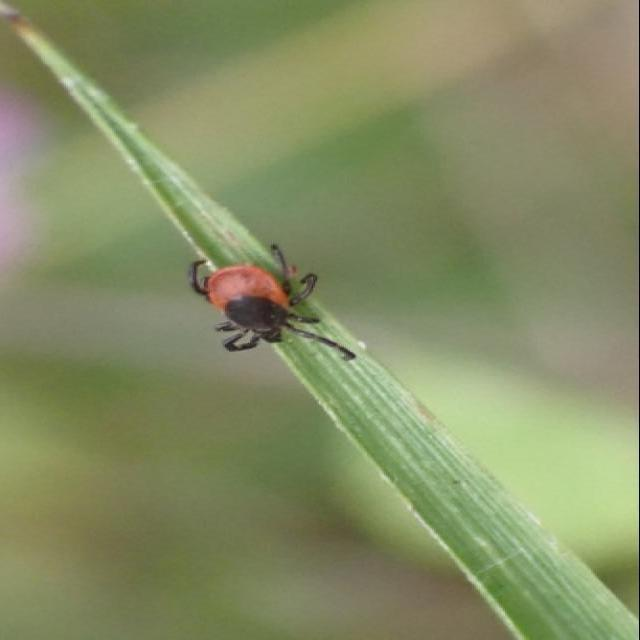Ixodes Ricinus-F: (190, 244, 358, 360)
